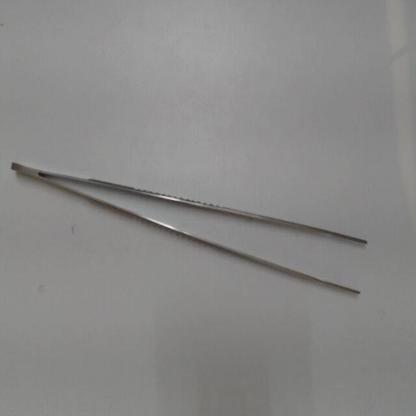DeBakey Dissector: (6, 155, 378, 314)
